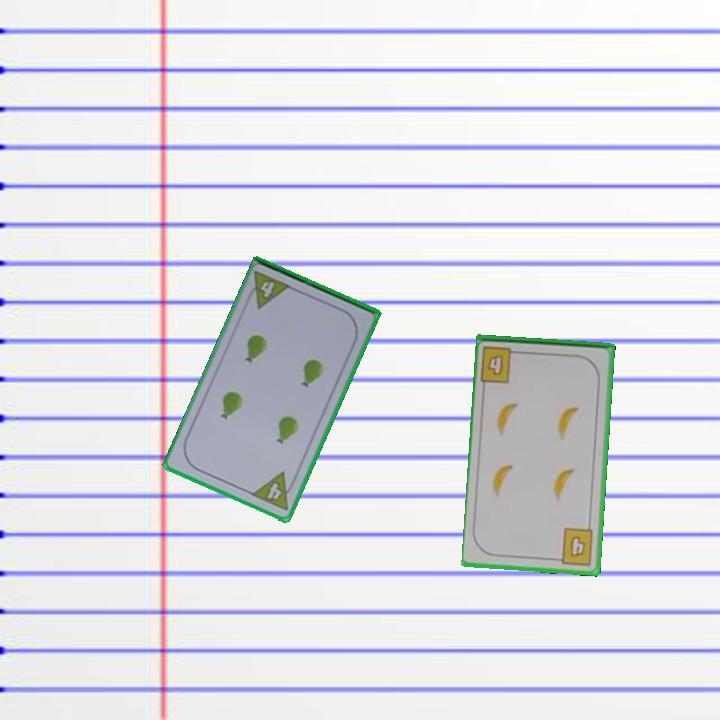4b: (477, 342, 524, 386), (552, 524, 596, 568)
4p: (248, 468, 300, 513), (242, 268, 294, 311)
